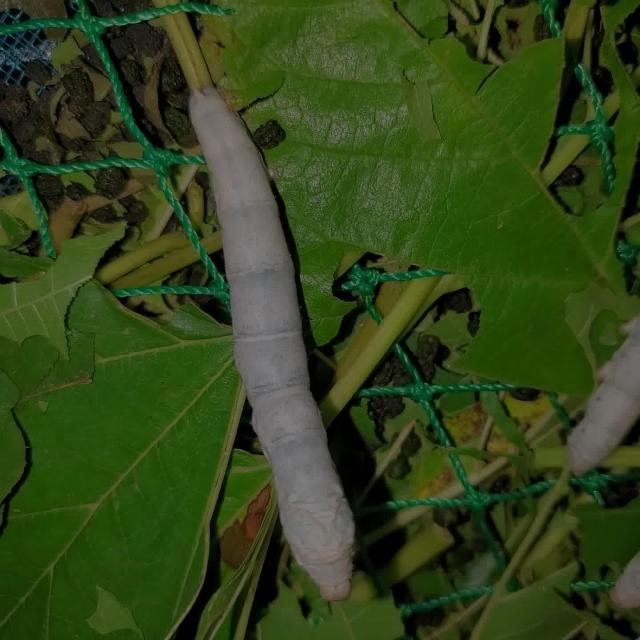Healthy: (156, 36, 420, 594)
